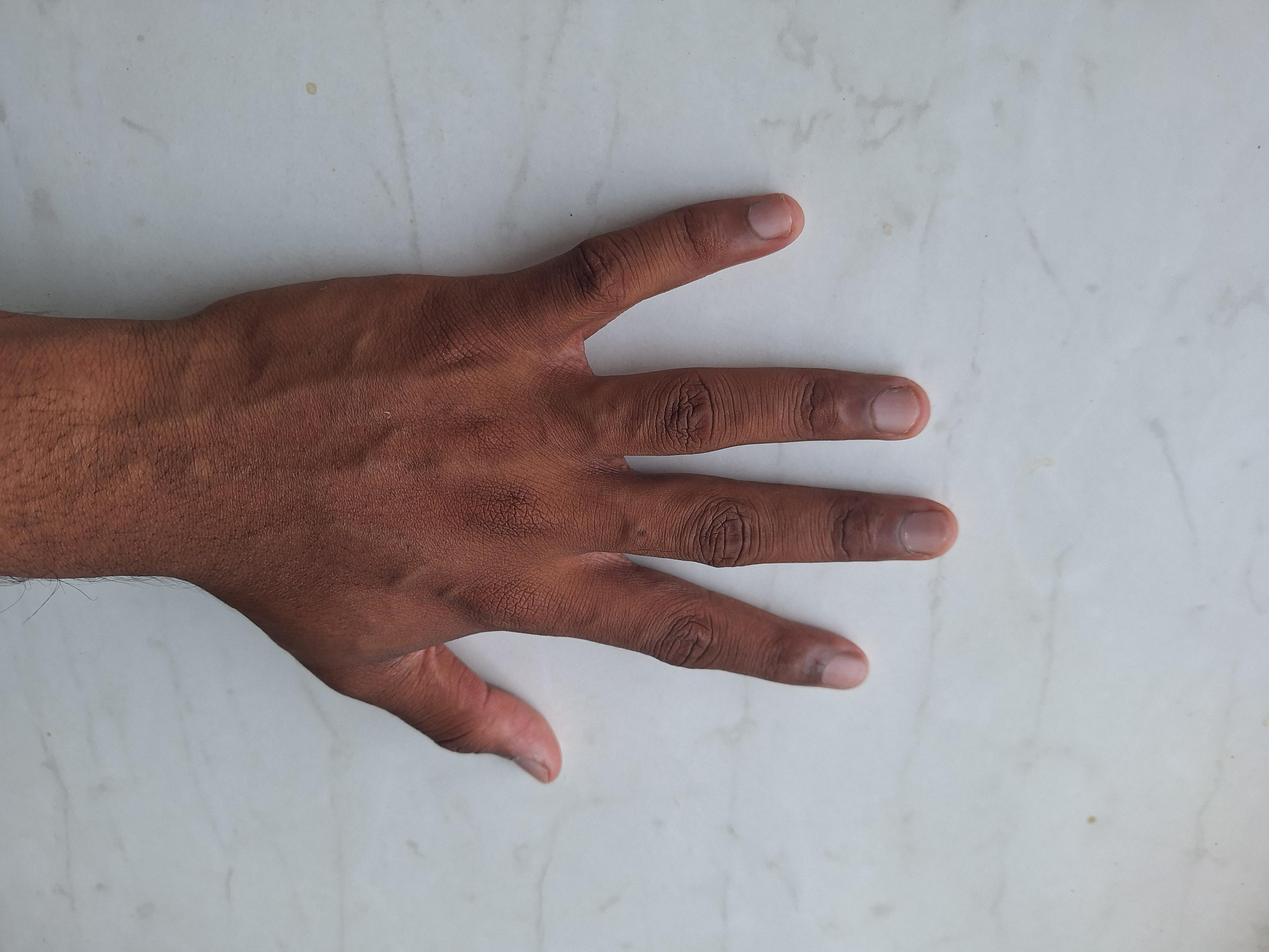Fingernail: (900, 511, 950, 555), (873, 388, 918, 433), (749, 196, 791, 240), (821, 652, 868, 688), (512, 757, 548, 783)
